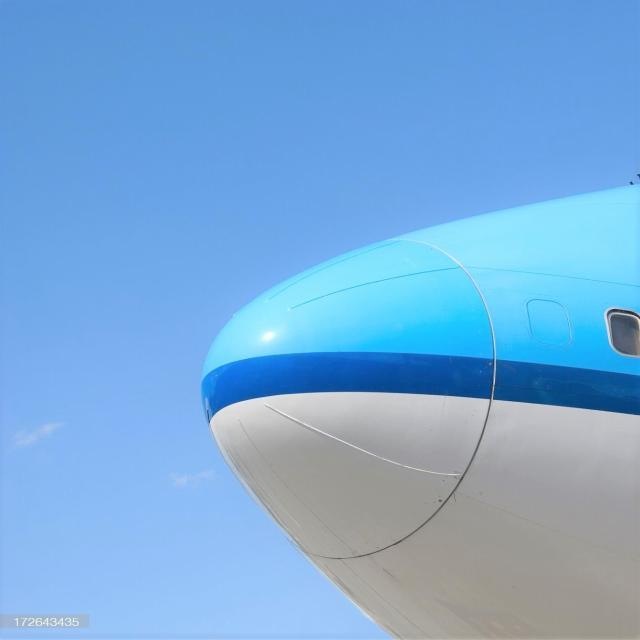crack: (448, 487, 462, 505)
